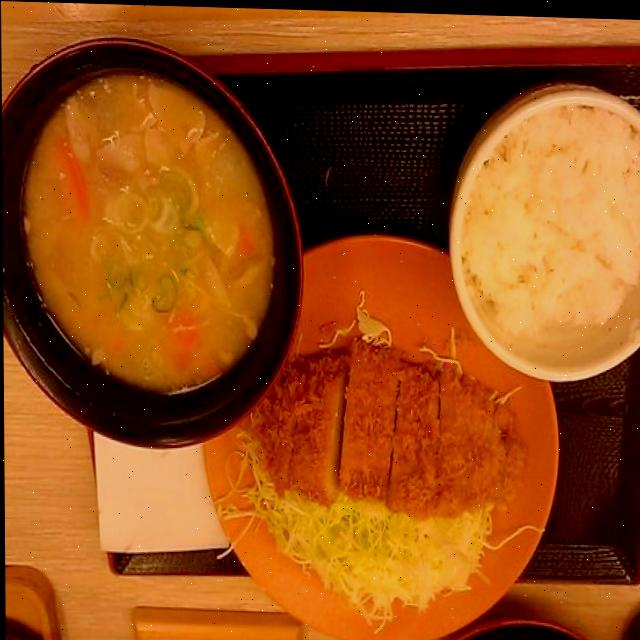米饭主食: (444, 69, 640, 381)
蔬菜料理: (245, 463, 500, 622)
